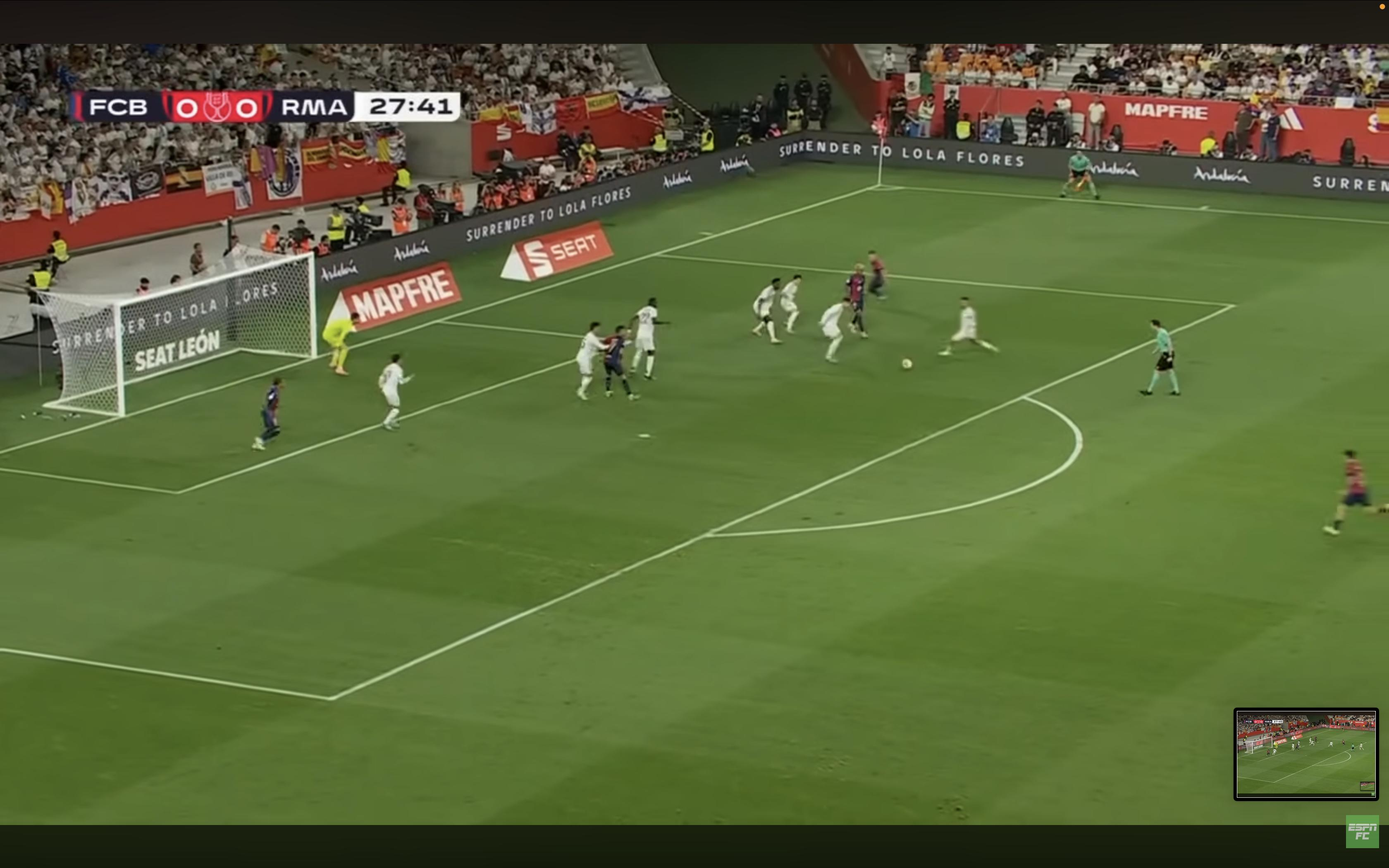ball: (901, 358, 913, 370)
goalkeeper: (322, 312, 360, 374)
player: (1323, 450, 1389, 535), (627, 296, 671, 379), (939, 298, 998, 356), (604, 326, 639, 400), (378, 354, 411, 430), (575, 322, 605, 400), (252, 378, 282, 451), (820, 297, 852, 362), (752, 277, 781, 344), (845, 264, 868, 338), (780, 275, 802, 334), (868, 250, 886, 300)
referee: (1140, 319, 1180, 396), (1060, 151, 1100, 200)
